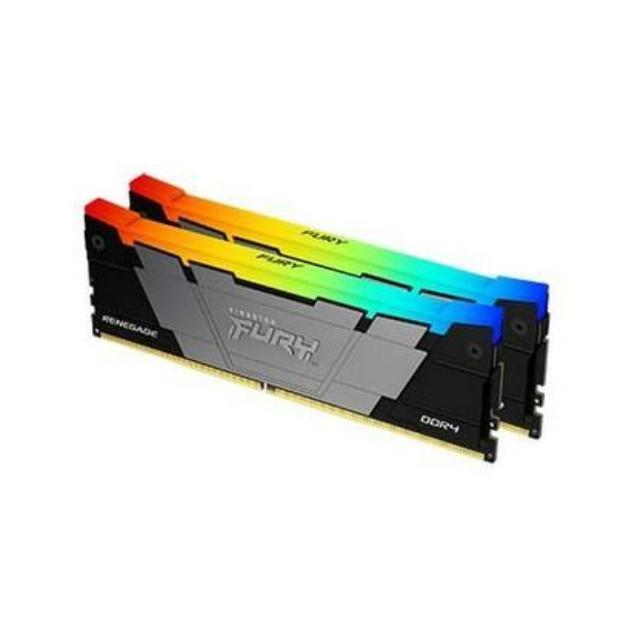RAM: (78, 164, 564, 467)
